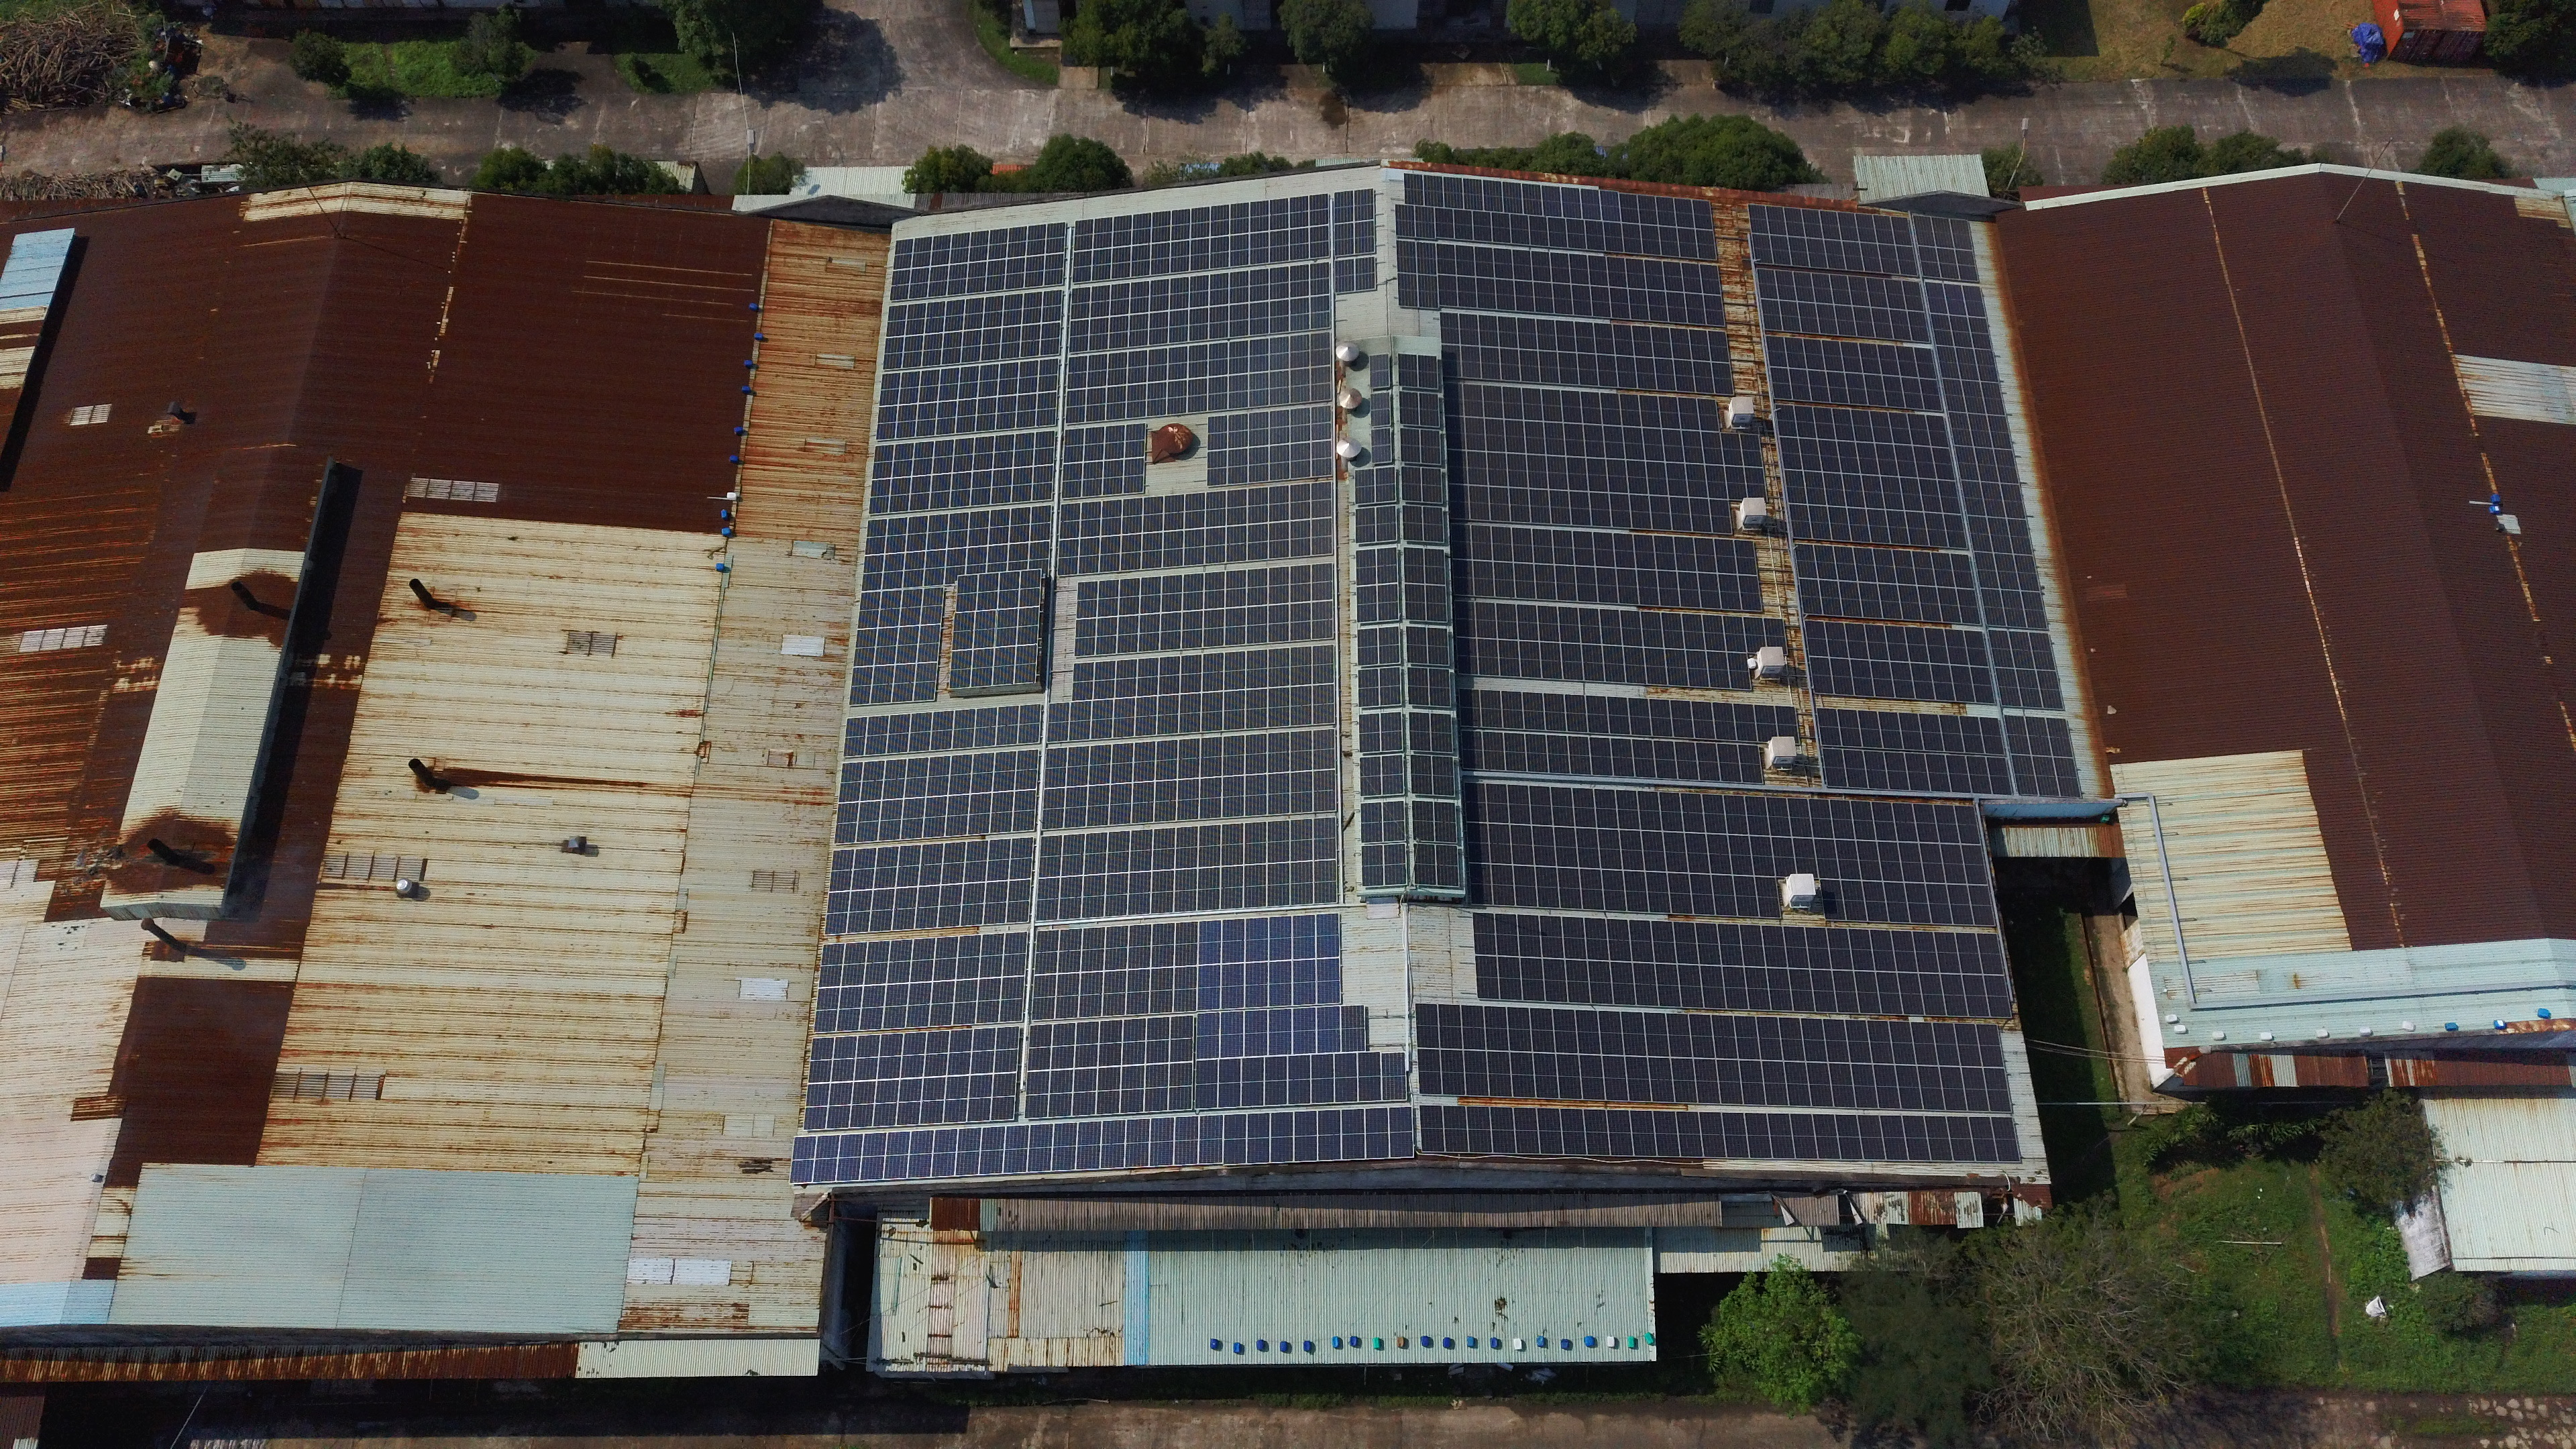solar: (1628, 1109, 1660, 1157), (1536, 1108, 1568, 1155), (1513, 1108, 1545, 1155), (1001, 1123, 1030, 1177), (835, 1132, 863, 1185), (1902, 1115, 1934, 1161), (1835, 1113, 1867, 1159), (1721, 1111, 1753, 1157), (1582, 1109, 1614, 1155), (1488, 1108, 1520, 1154), (1465, 1108, 1497, 1154), (1442, 1106, 1474, 1152), (1026, 1123, 1054, 1175), (977, 1123, 1005, 1175), (883, 1131, 911, 1182), (860, 1132, 888, 1184), (906, 1131, 934, 1182), (932, 1129, 961, 1180), (1872, 1063, 1902, 1111), (1560, 1108, 1591, 1155), (1419, 1104, 1449, 1152), (1387, 1106, 1414, 1159), (1364, 1108, 1391, 1161), (1339, 1109, 1366, 1162), (1269, 1113, 1295, 1166), (1246, 1113, 1272, 1166), (1221, 1113, 1247, 1166), (1198, 1115, 1224, 1168), (1173, 1115, 1200, 1168), (1148, 1116, 1175, 1169), (1123, 1116, 1150, 1169), (1099, 1118, 1125, 1171), (1076, 1120, 1102, 1173), (1051, 1120, 1077, 1173), (814, 1132, 840, 1185), (1990, 1116, 2022, 1161), (1967, 1116, 1999, 1161), (1923, 1116, 1955, 1161), (1858, 1115, 1890, 1159), (1766, 1113, 1798, 1157), (1743, 1113, 1775, 1157), (1698, 1113, 1730, 1157), (1675, 1111, 1707, 1155), (1652, 1111, 1684, 1155), (789, 1136, 817, 1185), (1463, 1047, 1491, 1097), (1737, 1058, 1766, 1108), (1783, 1060, 1812, 1109), (1897, 1065, 1927, 1111), (1916, 1065, 1946, 1111), (1937, 1065, 1967, 1111), (1960, 1067, 1990, 1113), (1983, 1067, 2013, 1113), (1879, 1115, 1909, 1161), (1606, 1109, 1637, 1155), (1316, 1111, 1343, 1162), (1292, 1111, 1318, 1162), (955, 1127, 982, 1178), (830, 1035, 858, 1083), (1509, 1051, 1537, 1099), (1532, 1053, 1560, 1100), (1555, 1053, 1583, 1100), (1601, 1054, 1629, 1102), (1624, 1056, 1652, 1104), (1670, 1058, 1698, 1106), (1691, 1058, 1720, 1106), (1760, 1060, 1789, 1108), (1851, 1063, 1879, 1111), (1946, 1116, 1976, 1161), (1813, 1113, 1844, 1157), (1790, 1113, 1821, 1157), (1578, 1053, 1605, 1102), (1716, 1058, 1743, 1108), (1806, 1062, 1833, 1111), (952, 980, 980, 1026), (922, 1031, 950, 1077), (1654, 962, 1683, 1008), (886, 938, 913, 985), (840, 941, 867, 989), (837, 985, 863, 1033), (883, 982, 909, 1030), (929, 980, 955, 1028), (975, 977, 1001, 1024), (855, 1035, 881, 1083), (803, 1083, 830, 1131), (968, 1074, 994, 1122), (1145, 1017, 1171, 1065), (1097, 1019, 1123, 1067), (1049, 1023, 1076, 1070), (1026, 1024, 1053, 1072), (1024, 1070, 1051, 1118), (1047, 1069, 1074, 1116), (1072, 1069, 1099, 1116), (1095, 1065, 1122, 1113), (1118, 1065, 1145, 1113), (1143, 1063, 1169, 1111), (1192, 1060, 1219, 1108), (1217, 1058, 1244, 1106), (1263, 1056, 1290, 1104), (1286, 1054, 1313, 1102), (1309, 1054, 1336, 1102), (1332, 1053, 1359, 1100), (1415, 1049, 1442, 1097), (1440, 1049, 1467, 1097), (1486, 1051, 1513, 1099), (1649, 1056, 1675, 1104), (1829, 1063, 1856, 1111), (849, 847, 878, 892), (913, 885, 941, 929), (1537, 915, 1566, 959), (1493, 913, 1522, 957), (1470, 913, 1499, 957), (1474, 955, 1502, 1000), (1518, 957, 1546, 1001), (1564, 959, 1592, 1003), (1610, 961, 1638, 1005), (1721, 966, 1750, 1010), (1744, 966, 1773, 1010), (1766, 966, 1794, 1010), (1787, 968, 1815, 1012), (1854, 970, 1882, 1014), (1897, 971, 1925, 1016), (1962, 973, 1990, 1017), (1983, 975, 2012, 1019), (1976, 1024, 2005, 1069), (1932, 1023, 1960, 1067), (1867, 1021, 1895, 1065), (1778, 1017, 1806, 1062), (1755, 1016, 1783, 1060), (1732, 1016, 1760, 1060), (1711, 1014, 1739, 1058), (1688, 1014, 1716, 1058), (1665, 1014, 1693, 1058), (1644, 1012, 1672, 1056), (1598, 1010, 1626, 1054), (1552, 1008, 1580, 1053), (1529, 1008, 1557, 1053), (1483, 1007, 1511, 1051), (1460, 1005, 1488, 1049), (2024, 717, 2054, 757), (955, 934, 982, 980), (932, 936, 959, 982), (909, 938, 936, 984), (863, 939, 890, 985), (819, 943, 846, 989), (814, 987, 840, 1033), (860, 984, 886, 1030), (906, 982, 932, 1028), (1000, 977, 1026, 1023), (994, 1028, 1021, 1074), (970, 1028, 996, 1074), (947, 1030, 973, 1076), (901, 1033, 927, 1079), (876, 1033, 902, 1079), (809, 1037, 835, 1083), (826, 1083, 853, 1129), (849, 1081, 876, 1127), (874, 1079, 901, 1125), (897, 1079, 924, 1125), (920, 1077, 947, 1123), (945, 1076, 971, 1122), (991, 1074, 1017, 1120), (1150, 869, 1177, 915), (1288, 860, 1315, 906), (1267, 916, 1293, 962), (1244, 916, 1270, 962), (1221, 918, 1247, 964), (1079, 927, 1106, 973), (1056, 927, 1083, 973), (1054, 973, 1081, 1019), (1148, 968, 1175, 1014), (1173, 968, 1200, 1014), (1267, 961, 1293, 1007), (1219, 1012, 1246, 1058), (1120, 1019, 1146, 1065), (1238, 1058, 1265, 1104), (1355, 1053, 1382, 1099), (1380, 1053, 1407, 1099), (1677, 962, 1704, 1008), (1414, 1003, 1440, 1049), (1557, 867, 1585, 909), (1690, 874, 1718, 916), (1840, 879, 1868, 922), (1976, 932, 2005, 975), (1890, 931, 1918, 973), (1826, 927, 1854, 970), (1782, 927, 1810, 970), (2036, 669, 2065, 711), (2005, 715, 2033, 757), (1169, 1016, 1194, 1063), (1074, 1021, 1099, 1069), (1169, 1062, 1194, 1109), (1008, 837, 1035, 881), (985, 839, 1012, 883), (962, 840, 989, 885), (941, 842, 968, 886), (895, 844, 922, 888), (830, 849, 856, 893), (869, 888, 895, 932), (892, 886, 918, 931), (1001, 932, 1028, 977), (978, 934, 1005, 978), (1081, 874, 1108, 918), (1104, 872, 1131, 916), (1315, 913, 1341, 957), (1033, 931, 1060, 975), (1031, 975, 1058, 1019), (1125, 970, 1152, 1014), (1196, 966, 1223, 1010), (1292, 961, 1318, 1005), (1516, 915, 1543, 959), (1497, 957, 1523, 1001), (1541, 957, 1568, 1001), (1587, 961, 1614, 1005), (1633, 962, 1660, 1007), (1700, 964, 1727, 1008), (1812, 970, 1838, 1014), (1833, 970, 1859, 1014), (1877, 971, 1904, 1016), (1920, 973, 1946, 1017), (1941, 973, 1967, 1017), (1955, 1024, 1982, 1069), (1911, 1023, 1937, 1067), (1890, 1021, 1916, 1065), (1845, 1021, 1872, 1065), (1822, 1019, 1849, 1063), (1801, 1019, 1828, 1063), (1621, 1010, 1647, 1054), (1575, 1010, 1601, 1054), (1507, 1007, 1534, 1051), (1437, 1005, 1463, 1049), (1690, 701, 1718, 741), (1566, 734, 1594, 775), (1679, 793, 1707, 833), (1766, 798, 1794, 839), (1771, 837, 1799, 878), (1868, 931, 1897, 971), (2047, 718, 2075, 759), (1877, 711, 1905, 752), (1836, 709, 1865, 750), (1821, 748, 1849, 789), (1863, 750, 1891, 791), (1904, 752, 1932, 793), (2031, 755, 2059, 796), (1127, 870, 1152, 916), (1196, 867, 1221, 913), (1219, 865, 1244, 911), (1242, 863, 1267, 909), (1313, 860, 1338, 906), (1292, 913, 1316, 959), (1198, 920, 1223, 966), (1175, 922, 1200, 968), (1150, 924, 1175, 970), (1127, 924, 1152, 970), (1104, 925, 1129, 971), (1079, 971, 1104, 1017), (1102, 970, 1127, 1016), (1221, 962, 1246, 1008), (1244, 962, 1269, 1008), (1316, 959, 1341, 1005), (1341, 1005, 1366, 1051), (1316, 1007, 1341, 1053), (1292, 1008, 1316, 1054), (1267, 1008, 1292, 1054), (1244, 1010, 1269, 1056), (1196, 1012, 1221, 1058), (947, 754, 973, 796), (902, 757, 929, 800), (856, 800, 883, 842), (966, 793, 993, 835), (989, 791, 1016, 833), (918, 844, 945, 886), (874, 847, 901, 890), (824, 892, 851, 934), (847, 890, 874, 932), (938, 885, 964, 927), (961, 883, 987, 925), (982, 881, 1008, 924), (1007, 879, 1033, 922), (1532, 824, 1559, 867), (1509, 824, 1536, 867), (1486, 823, 1513, 865), (1465, 823, 1491, 865), (1467, 863, 1493, 906), (1513, 865, 1539, 908), (1578, 867, 1605, 909), (1601, 869, 1628, 911), (1622, 870, 1649, 913), (1645, 872, 1672, 915), (1668, 872, 1695, 915), (1711, 874, 1737, 916), (1734, 874, 1760, 916), (1755, 876, 1782, 918), (1821, 879, 1847, 922), (1863, 881, 1890, 924), (1884, 881, 1911, 924), (1905, 881, 1932, 924), (1927, 883, 1953, 925), (1948, 883, 1974, 925), (1969, 885, 1996, 927), (1955, 932, 1982, 975), (1934, 932, 1960, 975), (1913, 931, 1939, 973), (1849, 929, 1875, 971), (1805, 927, 1831, 970), (1760, 925, 1787, 968), (1739, 924, 1766, 966), (1718, 924, 1744, 966), (1695, 924, 1721, 966), (1672, 922, 1698, 964), (1651, 920, 1677, 962), (1628, 920, 1654, 962), (1606, 918, 1633, 961), (1583, 916, 1610, 959), (1560, 916, 1587, 959), (1732, 704, 1760, 743), (1527, 786, 1555, 824), (1870, 801, 1898, 840), (1918, 844, 1946, 883), (1835, 840, 1863, 879), (1727, 835, 1755, 874), (2029, 632, 2058, 671), (1987, 630, 2015, 669), (1943, 628, 1971, 667), (1904, 626, 1932, 665), (1890, 660, 1918, 699), (1884, 752, 1913, 791), (1966, 755, 1994, 794), (2052, 757, 2081, 796), (1106, 830, 1131, 874), (1173, 869, 1198, 913), (1267, 863, 1292, 908), (878, 800, 904, 840), (945, 794, 971, 835), (1775, 706, 1801, 747), (1755, 704, 1782, 745), (1670, 699, 1697, 740), (1647, 699, 1674, 740), (1628, 697, 1654, 738), (1585, 695, 1612, 736), (1564, 694, 1591, 734), (1543, 692, 1569, 732), (1522, 692, 1548, 732), (1500, 690, 1527, 731), (1479, 690, 1506, 731), (1458, 688, 1484, 729), (1481, 731, 1507, 771), (1545, 732, 1571, 773), (1589, 736, 1615, 777), (1631, 738, 1658, 778), (1652, 738, 1679, 778), (1674, 740, 1700, 780), (1695, 741, 1721, 782), (1716, 741, 1743, 782), (1737, 743, 1764, 784), (1461, 782, 1488, 823), (1484, 784, 1511, 824), (1550, 786, 1576, 826), (1592, 789, 1619, 830), (1637, 791, 1663, 832), (1658, 791, 1684, 832), (1702, 794, 1729, 835), (1721, 794, 1748, 835), (1787, 798, 1813, 839), (1808, 798, 1835, 839), (1829, 800, 1856, 840), (1851, 800, 1877, 840), (1893, 801, 1920, 842), (1913, 803, 1939, 844), (1934, 805, 1960, 846), (1955, 805, 1982, 846), (1962, 844, 1989, 885), (1941, 844, 1967, 885), (1898, 842, 1925, 883), (1877, 842, 1904, 883), (1856, 840, 1882, 881), (1813, 839, 1840, 879), (1748, 835, 1775, 876), (1706, 833, 1732, 874), (1684, 833, 1711, 874), (1640, 832, 1667, 872), (1619, 830, 1645, 870), (1598, 828, 1624, 869), (1575, 828, 1601, 869), (1490, 863, 1516, 904), (1534, 867, 1560, 908), (1980, 717, 2006, 757), (1960, 717, 1987, 757), (1939, 713, 1966, 754), (1920, 713, 1946, 754), (1898, 711, 1925, 752), (1858, 709, 1884, 750), (1817, 708, 1844, 748), (1844, 748, 1870, 789), (1927, 752, 1953, 793), (1946, 754, 1973, 794), (1987, 755, 2013, 796), (970, 752, 994, 794), (925, 755, 950, 798), (839, 763, 863, 805), (924, 796, 948, 839), (1265, 732, 1290, 775), (1221, 734, 1246, 777), (1063, 786, 1088, 828), (1177, 778, 1201, 821), (1221, 777, 1246, 819), (1244, 773, 1269, 816), (1265, 773, 1290, 816), (1175, 826, 1200, 869), (1083, 832, 1108, 874), (1060, 835, 1085, 878), (1361, 844, 1385, 886), (1382, 844, 1407, 886), (1414, 844, 1438, 886), (2020, 591, 2049, 628), (1711, 702, 1737, 741), (1606, 697, 1633, 736), (1460, 731, 1486, 770), (1504, 732, 1530, 771), (1523, 732, 1550, 771), (1610, 738, 1637, 777), (1506, 786, 1532, 824), (1571, 789, 1598, 828), (1615, 791, 1642, 830), (1744, 796, 1771, 835), (1792, 839, 1819, 878), (1663, 833, 1690, 872), (1553, 828, 1580, 867), (2008, 632, 2035, 671), (1966, 630, 1992, 669), (1925, 628, 1951, 667), (1884, 625, 1911, 663), (1863, 625, 1890, 663), (1844, 623, 1870, 662), (1824, 621, 1851, 660), (1805, 621, 1831, 660), (1810, 656, 1836, 695), (1829, 656, 1856, 695), (1851, 658, 1877, 697), (1870, 660, 1897, 699), (1911, 663, 1937, 702), (1930, 663, 1957, 702), (1950, 665, 1976, 704), (1969, 667, 1996, 706), (1996, 667, 2022, 706), (2015, 669, 2042, 708), (2013, 755, 2040, 794), (1244, 732, 1267, 777), (1177, 738, 1200, 782), (1109, 741, 1132, 786), (1044, 747, 1067, 791), (1086, 784, 1109, 828), (1109, 782, 1132, 826), (1132, 780, 1155, 824), (1313, 816, 1336, 860), (1267, 819, 1290, 863), (1244, 821, 1267, 865), (1039, 835, 1062, 879), (996, 570, 1021, 610), (975, 571, 1000, 612), (954, 573, 978, 614), (920, 586, 945, 626), (899, 587, 924, 628), (856, 589, 881, 630), (874, 626, 899, 667), (952, 610, 977, 651), (1016, 607, 1040, 648), (991, 646, 1016, 686), (970, 648, 994, 688), (913, 662, 938, 702), (892, 663, 916, 704), (886, 713, 911, 754), (952, 708, 977, 748), (973, 708, 998, 748), (1017, 704, 1042, 745), (1014, 750, 1039, 791), (991, 752, 1016, 793), (883, 759, 908, 800), (860, 761, 885, 801), (835, 803, 860, 844), (901, 798, 925, 839), (1012, 791, 1037, 832), (1428, 667, 1453, 708), (1408, 711, 1433, 752), (1380, 754, 1405, 794), (1433, 801, 1458, 842), (1893, 444, 1921, 479), (1890, 550, 1918, 586), (1987, 414, 2013, 451), (1974, 448, 2001, 485), (1987, 517, 2013, 554), (2006, 518, 2033, 556), (2013, 554, 2040, 591), (1994, 552, 2020, 589), (1974, 552, 2001, 589), (1950, 552, 1976, 589), (1930, 552, 1957, 589), (1911, 550, 1937, 587), (1872, 548, 1898, 586), (1852, 547, 1879, 584), (1813, 545, 1840, 582), (1798, 579, 1824, 616), (1838, 580, 1865, 617), (1858, 582, 1884, 619), (1877, 584, 1904, 621), (1898, 584, 1925, 621), (1918, 586, 1944, 623), (1937, 587, 1964, 625), (1982, 589, 2008, 626), (2001, 589, 2028, 626), (1313, 729, 1336, 771), (1290, 731, 1313, 773), (1200, 736, 1223, 778), (1154, 740, 1177, 782), (1132, 740, 1155, 782), (1088, 743, 1111, 786), (1065, 747, 1088, 789), (1042, 789, 1065, 832), (1154, 780, 1177, 823), (1200, 777, 1223, 819), (1290, 771, 1313, 814), (1313, 770, 1336, 812), (1290, 819, 1313, 862), (1221, 823, 1244, 865), (1198, 824, 1221, 867), (1152, 828, 1175, 870), (1129, 830, 1152, 872), (1037, 878, 1060, 920), (1060, 876, 1083, 918), (1437, 846, 1460, 888), (1017, 570, 1042, 609), (878, 589, 902, 628), (853, 628, 878, 667), (895, 626, 920, 665), (916, 625, 941, 663), (973, 610, 998, 649), (994, 609, 1019, 648), (1014, 644, 1039, 683), (950, 649, 975, 688), (869, 665, 893, 704), (849, 667, 874, 706), (844, 717, 869, 755), (865, 717, 890, 755), (931, 711, 955, 750), (1430, 713, 1454, 752), (1948, 412, 1974, 448), (1967, 412, 1994, 448), (1994, 449, 2020, 485), (1913, 444, 1939, 479), (1884, 510, 1911, 545), (1923, 511, 1950, 547), (1833, 547, 1859, 582), (1794, 545, 1821, 580), (1819, 580, 1845, 616), (1957, 589, 1983, 625), (996, 706, 1019, 747), (1407, 667, 1430, 708), (1380, 711, 1403, 752), (1359, 713, 1382, 754), (1359, 755, 1382, 796), (1431, 755, 1454, 796), (1412, 800, 1435, 840), (1361, 803, 1384, 844), (971, 435, 996, 472), (925, 513, 950, 550), (1626, 460, 1651, 497), (1465, 449, 1490, 487), (1713, 538, 1737, 575), (1677, 571, 1702, 609), (1702, 616, 1727, 653), (1683, 614, 1707, 651), (1661, 612, 1686, 649), (1640, 610, 1665, 648), (1619, 610, 1644, 648), (1599, 609, 1624, 646), (1557, 607, 1582, 644), (1537, 605, 1562, 642), (1495, 603, 1520, 640), (1474, 602, 1499, 639), (1454, 600, 1479, 637), (1454, 637, 1479, 674), (1497, 639, 1522, 676), (1518, 640, 1543, 678), (1539, 642, 1564, 679), (1560, 642, 1585, 679), (1580, 644, 1605, 681), (1603, 646, 1628, 683), (1642, 648, 1667, 685), (1665, 649, 1690, 686), (1684, 649, 1709, 686), (1706, 651, 1730, 688), (1955, 446, 1980, 483), (909, 713, 932, 752), (1311, 563, 1334, 602), (1288, 564, 1311, 603), (1269, 566, 1292, 605), (1246, 568, 1269, 607), (1224, 570, 1247, 609), (1201, 571, 1224, 610), (1182, 573, 1205, 612), (1138, 575, 1161, 614), (1118, 579, 1141, 617), (1074, 580, 1097, 619), (1074, 617, 1097, 656), (1116, 616, 1139, 655), (1138, 614, 1161, 653), (1159, 610, 1182, 649), (1182, 610, 1205, 649), (1203, 609, 1226, 648), (1224, 607, 1247, 646), (1246, 605, 1269, 644), (1267, 603, 1290, 642), (1288, 602, 1311, 640), (1311, 600, 1334, 639), (1311, 644, 1334, 683), (1290, 648, 1313, 686), (1269, 648, 1292, 686), (1246, 649, 1269, 688), (1201, 653, 1224, 692), (1180, 655, 1203, 694), (1159, 656, 1182, 695), (1136, 658, 1159, 697), (1115, 658, 1138, 697), (1093, 662, 1116, 701), (1072, 663, 1095, 702), (1047, 702, 1070, 741), (1069, 701, 1092, 740), (1113, 699, 1136, 738), (1157, 695, 1180, 734), (1178, 694, 1201, 732), (1201, 692, 1224, 731), (1223, 690, 1246, 729), (1246, 688, 1269, 727), (1269, 688, 1292, 727), (1290, 686, 1313, 725), (1313, 685, 1336, 724), (1357, 669, 1380, 708), (1380, 667, 1403, 706), (1410, 755, 1433, 794), (1382, 801, 1405, 840), (1955, 347, 1982, 380), (1962, 380, 1989, 414), (1900, 377, 1927, 410), (1863, 373, 1890, 407), (1806, 370, 1833, 403), (1769, 366, 1796, 400), (1792, 405, 1819, 439), (1831, 409, 1858, 442), (1849, 409, 1875, 442), (1868, 412, 1895, 446), (1888, 412, 1914, 446), (1932, 448, 1959, 481), (1806, 504, 1833, 538), (1904, 511, 1930, 545), (943, 548, 968, 584), (964, 547, 989, 582), (1028, 541, 1053, 577), (1585, 458, 1610, 494), (1506, 453, 1530, 488), (1484, 453, 1509, 488), (1445, 485, 1470, 520), (1488, 487, 1513, 522), (1568, 492, 1592, 527), (1571, 531, 1596, 566), (1552, 529, 1576, 564), (1472, 561, 1497, 596), (1575, 566, 1599, 602), (1737, 575, 1762, 610), (1578, 609, 1603, 644), (1516, 605, 1541, 640), (1476, 639, 1500, 674), (1622, 648, 1647, 683), (1727, 653, 1752, 688), (1875, 442, 1900, 478), (1819, 439, 1844, 474), (1798, 437, 1822, 472), (1783, 469, 1808, 504), (1967, 517, 1992, 552), (1803, 471, 1828, 506), (1861, 476, 1886, 511), (1962, 481, 1987, 517), (911, 441, 934, 478), (952, 437, 975, 474), (993, 433, 1016, 471), (1033, 430, 1056, 467), (991, 469, 1014, 506), (970, 469, 993, 506), (948, 471, 971, 508), (929, 472, 952, 510), (869, 478, 892, 515), (865, 518, 888, 556), (987, 508, 1010, 545), (862, 554, 885, 591), (902, 552, 925, 589), (1307, 191, 1330, 228), (1129, 280, 1152, 317), (1269, 299, 1292, 336), (1288, 333, 1311, 370), (1247, 372, 1270, 409), (1081, 460, 1104, 497), (1247, 410, 1270, 448), (1288, 483, 1311, 520), (1246, 487, 1269, 524), (1224, 488, 1247, 525), (1162, 494, 1185, 531), (1120, 497, 1143, 534), (1099, 499, 1122, 536), (1079, 501, 1102, 538), (1058, 502, 1081, 540), (1120, 534, 1143, 571), (1141, 533, 1164, 570), (1182, 529, 1205, 566), (909, 474, 932, 511), (1288, 520, 1311, 557), (1311, 518, 1334, 556), (1398, 352, 1421, 389), (1417, 354, 1440, 391), (1369, 391, 1392, 428), (1421, 467, 1444, 504), (1353, 469, 1376, 506), (1403, 547, 1426, 584), (1355, 548, 1378, 586), (1355, 586, 1378, 623), (1376, 584, 1399, 621), (1355, 628, 1378, 665), (1546, 455, 1569, 492), (1445, 449, 1468, 487), (1548, 488, 1571, 525), (1629, 494, 1652, 531), (1614, 533, 1637, 570), (1698, 571, 1721, 609), (1723, 616, 1746, 653), (1950, 218, 1974, 251), (1955, 248, 1980, 281), (1918, 246, 1943, 280), (1877, 244, 1902, 278), (1859, 241, 1884, 274), (1930, 313, 1955, 347), (1815, 303, 1840, 336), (1803, 338, 1828, 372), (1974, 349, 1999, 382), (1982, 380, 2006, 414), (1943, 379, 1967, 412), (1920, 379, 1944, 412), (1882, 375, 1907, 409), (1845, 372, 1870, 405), (1826, 372, 1851, 405), (1789, 370, 1813, 403), (1773, 403, 1798, 437), (1813, 407, 1838, 441), (1907, 414, 1932, 448), (1927, 414, 1951, 448), (1856, 442, 1881, 476), (1836, 441, 1861, 474), (1780, 437, 1805, 471), (1787, 504, 1812, 538), (1828, 506, 1852, 540), (1847, 508, 1872, 541), (1865, 508, 1890, 541), (1944, 513, 1969, 547), (1822, 472, 1847, 506), (1842, 472, 1867, 506), (1879, 478, 1904, 511), (1900, 478, 1925, 511), (1918, 479, 1943, 513), (1937, 481, 1962, 515), (1982, 483, 2006, 517), (2001, 485, 2026, 518), (1161, 575, 1182, 614), (1097, 580, 1118, 619), (1097, 617, 1118, 656), (1224, 651, 1246, 690), (1092, 699, 1113, 738), (1136, 697, 1157, 736), (1376, 547, 1398, 586), (1405, 582, 1426, 621), (872, 444, 895, 479), (892, 444, 915, 479), (932, 439, 955, 474), (1012, 432, 1035, 467), (1031, 465, 1054, 501), (1010, 467, 1033, 502), (888, 478, 911, 513), (885, 518, 908, 554), (904, 517, 927, 552), (947, 513, 970, 548), (968, 511, 991, 547), (1008, 508, 1031, 543), (1030, 506, 1053, 541), (881, 554, 904, 589), (924, 550, 947, 586), (985, 545, 1008, 580), (1007, 543, 1030, 579), (1092, 216, 1115, 251), (1111, 214, 1134, 249), (1169, 207, 1192, 242), (1208, 203, 1231, 239), (1230, 202, 1253, 237), (1249, 200, 1272, 235), (1269, 196, 1292, 232), (1288, 195, 1311, 230), (1309, 223, 1332, 258), (1288, 225, 1311, 260), (1247, 230, 1270, 265), (1228, 232, 1251, 267), (1129, 242, 1152, 278), (1069, 287, 1092, 322), (1109, 281, 1132, 317), (1148, 278, 1171, 313), (1269, 265, 1292, 301), (1288, 264, 1311, 299), (1309, 295, 1332, 331), (1288, 297, 1311, 333), (1207, 306, 1230, 341), (1168, 310, 1191, 345), (1127, 313, 1150, 349), (1067, 318, 1090, 354), (1086, 354, 1109, 389), (1127, 349, 1150, 384), (1146, 347, 1169, 382), (1187, 345, 1210, 380), (1207, 341, 1230, 377), (1226, 340, 1249, 375), (1247, 338, 1270, 373), (1269, 372, 1292, 407), (1226, 373, 1249, 409), (1104, 384, 1127, 419), (1083, 386, 1106, 421), (1062, 428, 1085, 464), (1123, 423, 1146, 458), (1060, 464, 1083, 499), (1226, 412, 1249, 448), (1269, 410, 1292, 446), (1290, 442, 1313, 478), (1269, 444, 1292, 479), (1247, 448, 1270, 483), (1226, 448, 1249, 483), (1269, 487, 1292, 522), (1184, 494, 1207, 529), (1141, 497, 1164, 533), (1077, 538, 1100, 573), (1099, 536, 1122, 571), (1162, 531, 1185, 566), (1224, 525, 1247, 561), (1246, 524, 1269, 559), (1267, 522, 1290, 557), (1399, 428, 1422, 464), (1399, 467, 1422, 502), (1401, 506, 1424, 541), (1566, 456, 1589, 492), (1525, 455, 1548, 490), (1468, 485, 1491, 520), (1509, 488, 1532, 524), (1529, 488, 1552, 524), (1589, 492, 1612, 527), (1610, 492, 1633, 527), (1649, 495, 1672, 531), (1670, 497, 1693, 533), (1690, 497, 1713, 533), (1709, 499, 1732, 534), (1734, 540, 1757, 575), (1693, 538, 1716, 573), (1674, 536, 1697, 571), (1654, 536, 1677, 571), (1633, 534, 1656, 570), (1592, 533, 1615, 568), (1532, 529, 1555, 564), (1511, 527, 1534, 563), (1491, 525, 1514, 561), (1470, 525, 1493, 561), (1449, 525, 1472, 561), (1451, 559, 1474, 594), (1493, 561, 1516, 596), (1513, 563, 1536, 598), (1534, 564, 1557, 600), (1555, 564, 1578, 600), (1596, 566, 1619, 602), (1615, 568, 1638, 603), (1637, 570, 1660, 605), (1658, 571, 1681, 607), (1718, 573, 1741, 609), (1764, 617, 1787, 653), (1743, 617, 1766, 653), (1334, 258, 1357, 294), (1131, 211, 1152, 248), (1353, 186, 1375, 223), (1189, 274, 1210, 311), (1108, 313, 1129, 350), (1207, 449, 1228, 487), (1205, 490, 1226, 527), (1369, 352, 1391, 389), (1419, 391, 1440, 428), (1398, 389, 1419, 426), (1371, 428, 1392, 465), (1421, 428, 1442, 465), (1355, 506, 1376, 543), (1422, 506, 1444, 543), (1424, 548, 1445, 586), (1426, 584, 1447, 621), (1428, 626, 1449, 663), (1378, 626, 1399, 663), (1407, 626, 1428, 663), (1936, 248, 1960, 280), (1847, 276, 1872, 308), (1865, 278, 1890, 310), (1902, 280, 1927, 311), (1962, 285, 1987, 317), (1967, 317, 1992, 349), (1950, 315, 1974, 347), (1907, 311, 1932, 343), (1870, 308, 1895, 340), (1851, 306, 1875, 338), (1796, 301, 1821, 333), (1764, 336, 1789, 368), (1821, 340, 1845, 372), (1840, 341, 1865, 373), (1858, 343, 1882, 375), (1877, 343, 1902, 375), (1937, 347, 1962, 379), (1355, 255, 1376, 292), (948, 232, 971, 265), (968, 230, 991, 264), (1007, 225, 1030, 258), (1024, 225, 1047, 258), (1044, 223, 1067, 257), (1044, 253, 1067, 287), (1023, 255, 1046, 288), (1005, 257, 1028, 290), (985, 258, 1008, 292), (966, 260, 989, 294), (947, 262, 970, 295), (927, 264, 950, 297), (908, 265, 931, 299), (890, 269, 913, 303), (885, 304, 908, 338), (906, 303, 929, 336), (924, 301, 947, 334), (943, 299, 966, 333), (962, 297, 985, 331), (982, 295, 1005, 329), (1001, 294, 1024, 327), (1021, 292, 1044, 326), (1040, 288, 1063, 322), (1039, 322, 1062, 356), (1019, 324, 1042, 357), (1000, 326, 1023, 359), (980, 327, 1003, 361), (961, 331, 984, 364), (922, 333, 945, 366), (879, 372, 902, 405), (897, 372, 920, 405), (918, 370, 941, 403), (938, 368, 961, 402), (957, 366, 980, 400), (977, 364, 1000, 398), (998, 363, 1021, 396), (1017, 361, 1040, 395), (1037, 357, 1060, 391), (1035, 393, 1058, 426), (1016, 395, 1039, 428), (994, 395, 1017, 428), (975, 396, 998, 430), (895, 405, 918, 439), (876, 407, 899, 441), (1401, 172, 1424, 205), (1422, 173, 1445, 207), (1442, 175, 1465, 209), (1483, 179, 1506, 212), (1500, 180, 1523, 214), (1541, 184, 1564, 218), (1580, 188, 1603, 221), (1637, 193, 1660, 226), (1654, 195, 1677, 228), (1674, 196, 1697, 230), (1691, 196, 1714, 230), (1640, 225, 1663, 258), (1621, 221, 1644, 255), (1601, 221, 1624, 255), (1583, 219, 1606, 253), (1564, 218, 1587, 251), (1546, 216, 1569, 249), (1527, 216, 1550, 249), (1509, 214, 1532, 248), (1490, 212, 1513, 246), (1472, 211, 1495, 244), (1433, 207, 1456, 241), (1414, 205, 1437, 239), (1394, 205, 1417, 239), (1396, 239, 1419, 272), (1435, 242, 1458, 276), (1454, 244, 1477, 278), (1472, 244, 1495, 278), (1491, 248, 1514, 281), (1511, 249, 1534, 283), (1529, 249, 1552, 283), (1548, 251, 1571, 285), (1568, 253, 1591, 287), (1587, 253, 1610, 287), (1605, 255, 1628, 288), (1624, 257, 1647, 290), (1642, 258, 1665, 292), (1661, 260, 1684, 294), (1681, 260, 1704, 294), (1698, 262, 1721, 295), (1704, 294, 1727, 327), (1684, 292, 1707, 326), (1665, 292, 1688, 326), (1647, 290, 1670, 324), (1629, 288, 1652, 322), (1589, 285, 1612, 318), (1571, 283, 1594, 317), (1552, 283, 1575, 317), (1532, 281, 1555, 315), (1513, 280, 1536, 313), (1493, 280, 1516, 313), (1474, 276, 1497, 310), (1456, 276, 1479, 310), (1437, 274, 1460, 308), (1417, 274, 1440, 308), (1396, 272, 1419, 306), (1438, 311, 1461, 345), (1458, 313, 1481, 347), (1477, 313, 1500, 347), (1553, 318, 1576, 352), (1573, 320, 1596, 354), (1592, 322, 1615, 356), (1612, 324, 1635, 357), (1631, 326, 1654, 359), (1651, 326, 1674, 359), (1668, 327, 1691, 361), (1688, 329, 1711, 363), (1711, 361, 1734, 395), (1693, 361, 1716, 395), (1674, 359, 1697, 393), (1654, 357, 1677, 391), (1635, 357, 1658, 391), (1615, 356, 1638, 389), (1596, 354, 1619, 387), (1576, 352, 1599, 386), (1557, 352, 1580, 386), (1537, 350, 1560, 384), (1518, 350, 1541, 384), (1499, 349, 1522, 382), (1479, 347, 1502, 380), (1460, 345, 1483, 379), (1440, 384, 1463, 418), (1502, 386, 1525, 419), (1522, 387, 1545, 421), (1560, 389, 1583, 423), (1580, 391, 1603, 425), (1599, 393, 1622, 426), (1619, 393, 1642, 426), (1638, 395, 1661, 428), (1660, 396, 1683, 430), (1677, 396, 1700, 430), (1697, 398, 1720, 432), (1442, 418, 1465, 451), (1463, 418, 1486, 451), (1484, 419, 1507, 453), (1504, 419, 1527, 453), (1523, 421, 1546, 455), (1543, 421, 1566, 455), (1564, 423, 1587, 456), (1583, 425, 1606, 458), (1603, 425, 1626, 458), (1622, 426, 1645, 460), (1642, 428, 1665, 462), (1661, 428, 1684, 462), (1681, 430, 1704, 464), (1725, 465, 1748, 499), (1706, 465, 1729, 499), (1686, 464, 1709, 497), (1665, 464, 1688, 497), (1645, 462, 1668, 495), (1606, 460, 1629, 494), (1932, 216, 1955, 249), (1897, 244, 1920, 278), (1884, 278, 1907, 311), (1944, 283, 1967, 317), (1890, 308, 1913, 341), (1780, 299, 1803, 333), (1152, 209, 1173, 244), (1191, 205, 1212, 241), (1334, 188, 1355, 223), (1353, 219, 1375, 255), (1334, 221, 1355, 257), (1269, 228, 1290, 264), (1208, 234, 1230, 269), (1189, 235, 1210, 271), (1169, 239, 1191, 274), (1150, 239, 1171, 274), (1111, 244, 1132, 280), (1092, 244, 1113, 280), (1072, 248, 1093, 283), (1090, 285, 1111, 320), (1169, 276, 1191, 311), (1208, 272, 1230, 308), (1228, 271, 1249, 306), (1249, 267, 1270, 303), (1311, 262, 1332, 297), (1247, 303, 1269, 338), (1228, 303, 1249, 338), (1189, 308, 1210, 343), (1148, 311, 1169, 347), (1086, 317, 1108, 352), (1067, 356, 1088, 391), (1106, 350, 1127, 386), (1169, 345, 1191, 380), (1269, 336, 1290, 372), (1311, 333, 1332, 368), (1311, 366, 1332, 402), (1290, 368, 1311, 403), (1207, 375, 1228, 410), (1187, 379, 1208, 414), (1166, 379, 1187, 414), (1146, 380, 1168, 416), (1125, 382, 1146, 418), (1065, 389, 1086, 425), (1083, 426, 1104, 462), (1104, 425, 1125, 460), (1123, 458, 1145, 494), (1102, 458, 1123, 494), (1207, 416, 1228, 451), (1290, 409, 1311, 444), (1311, 407, 1332, 442), (1311, 441, 1332, 476), (1311, 481, 1332, 517), (1058, 540, 1079, 575), (1205, 529, 1226, 564), (1375, 467, 1396, 502), (1376, 506, 1398, 541), (1824, 239, 1849, 269), (1805, 237, 1829, 267), (1787, 237, 1812, 267), (1769, 234, 1794, 264), (1752, 234, 1776, 264), (1775, 271, 1799, 301), (985, 228, 1008, 260), (1415, 242, 1438, 274), (1608, 287, 1631, 318), (1440, 345, 1463, 377), (1541, 389, 1564, 421), (1744, 467, 1767, 499), (1801, 207, 1824, 239), (1856, 212, 1879, 244), (1891, 216, 1914, 248), (1812, 272, 1835, 304), (1829, 274, 1852, 306), (1927, 281, 1950, 313), (1835, 306, 1858, 338), (1760, 299, 1783, 331), (1785, 338, 1808, 370), (1897, 345, 1920, 377), (1914, 347, 1937, 379), (931, 234, 952, 267), (941, 333, 962, 366), (902, 334, 924, 368), (883, 336, 904, 370), (955, 400, 977, 433), (936, 402, 957, 435), (1463, 177, 1484, 211), (1522, 182, 1543, 216), (1560, 186, 1582, 219), (1599, 189, 1621, 223), (1619, 191, 1640, 225), (1697, 228, 1718, 262), (1658, 225, 1679, 258), (1453, 209, 1474, 242), (1497, 317, 1518, 350), (1516, 317, 1537, 350), (1536, 318, 1557, 352), (1707, 329, 1729, 363), (1463, 384, 1484, 418), (1483, 384, 1504, 418), (1702, 430, 1723, 464), (1721, 433, 1743, 467), (1741, 433, 1762, 467), (1746, 203, 1769, 234), (1766, 205, 1789, 235), (1783, 207, 1806, 237), (1819, 211, 1842, 241), (1872, 214, 1895, 244), (1913, 216, 1936, 246), (1842, 241, 1865, 271), (1757, 269, 1780, 299), (1794, 272, 1817, 303), (916, 403, 938, 435), (1677, 228, 1698, 260), (1838, 211, 1859, 242), (913, 235, 932, 267), (1074, 218, 1093, 249), (893, 239, 913, 269)
